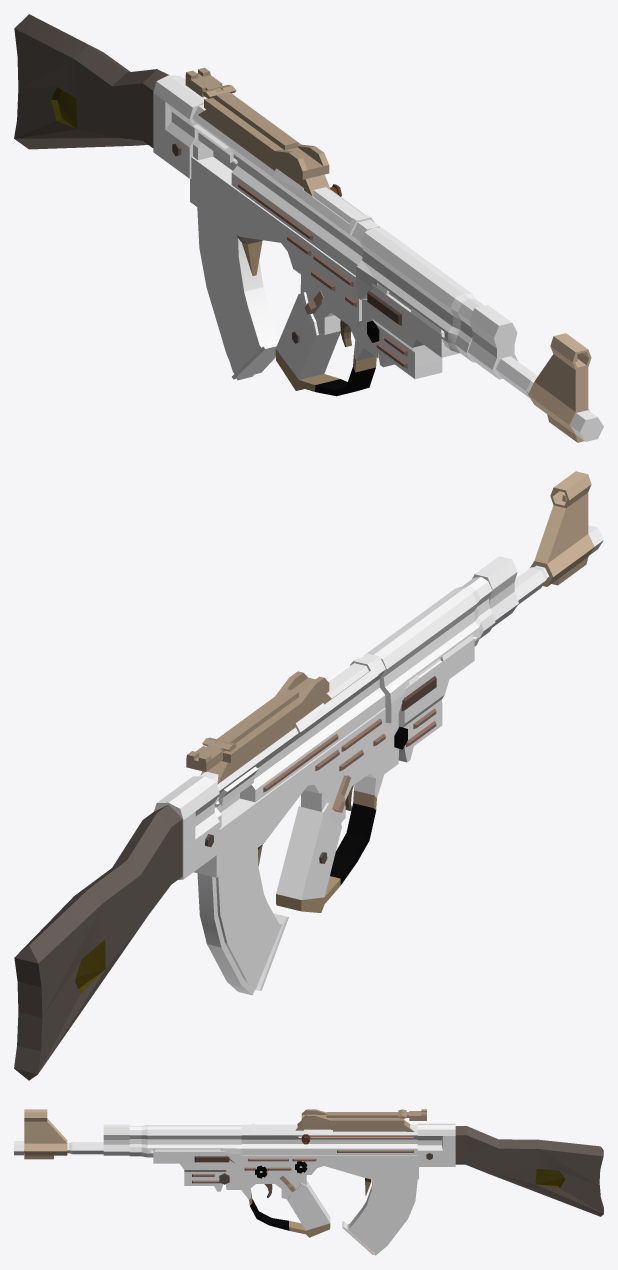
File: SM_AssaultRifle.fbx
3 renders of one model, top to bottom at view 1: azimuth 30°, elevation 25°; view 2: azimuth 150°, elevation 25°; view 3: azimuth 270°, elevation 25°, orthographic. The views are drawn at different scales.
Visible parts, largest first — view 1: Assault_Rifle; view 2: Assault_Rifle; view 3: Assault_Rifle.
Part boxes in pixels (bbox=[...]): Assault_Rifle: bbox=[14, 14, 603, 442]; Assault_Rifle: bbox=[14, 471, 603, 1080]; Assault_Rifle: bbox=[14, 1109, 603, 1255].
Bounding box in the file's own units: 4.47 × 25.82 × 96.55.
